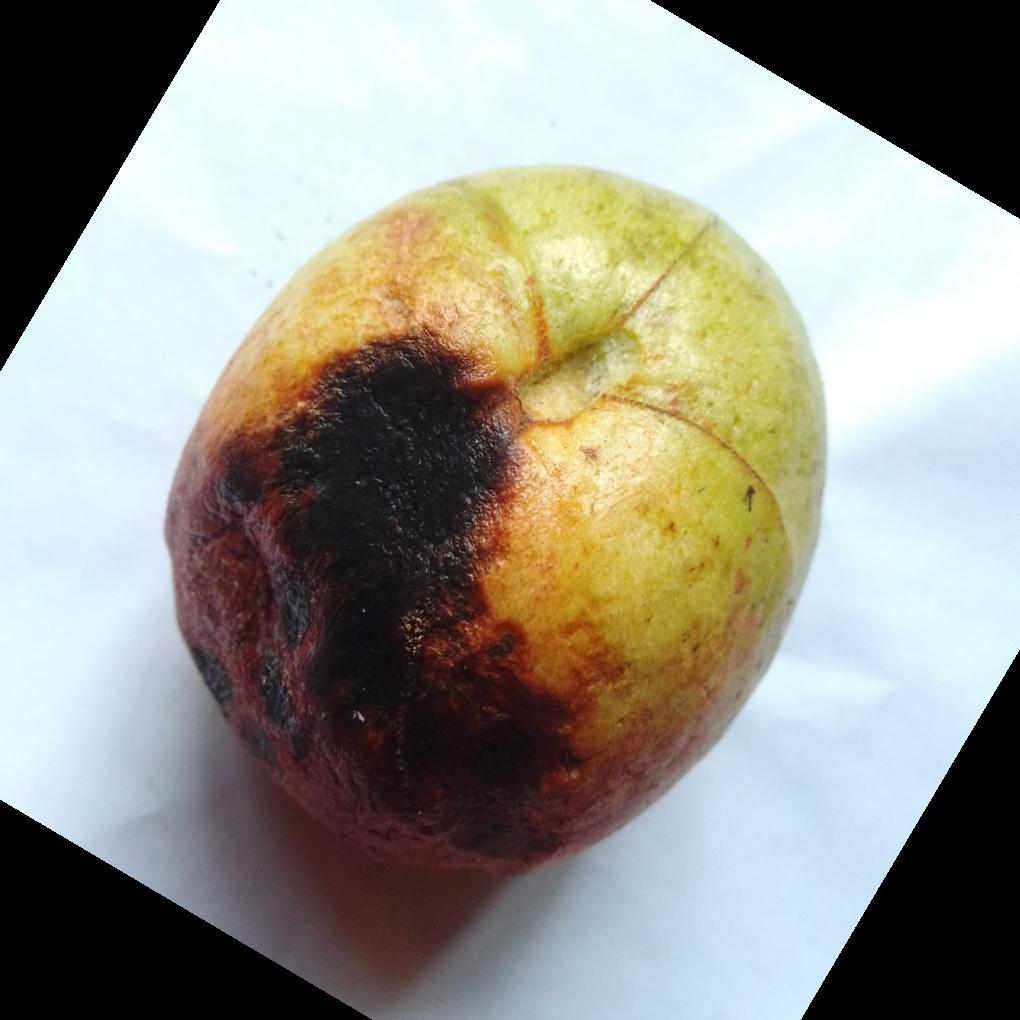FreshOrange: (162, 164, 831, 885)
